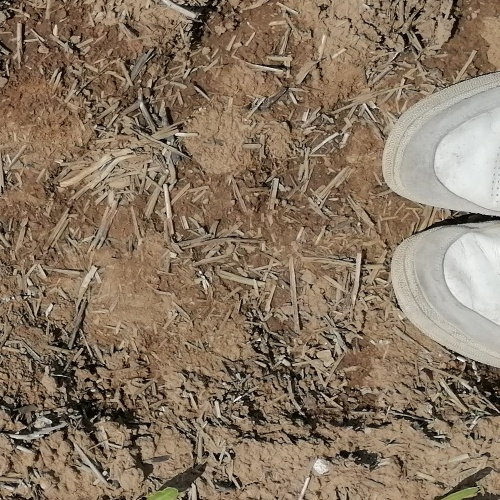beet: (136, 485, 180, 500)
